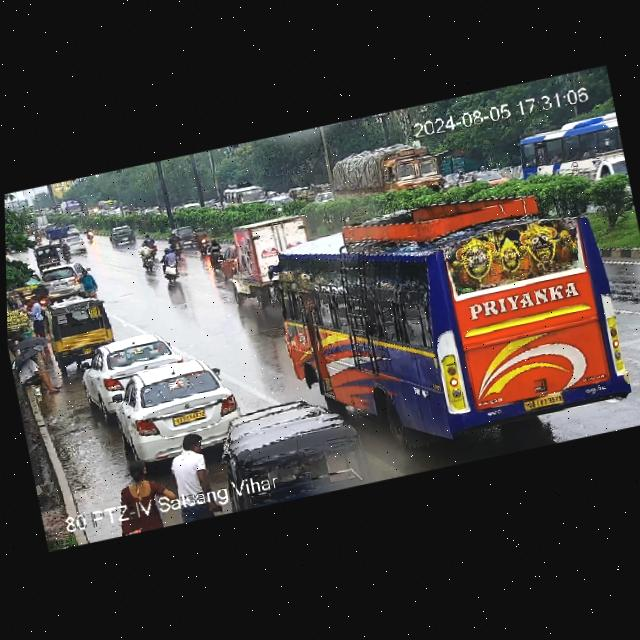bus: (267, 191, 634, 413), (514, 107, 628, 215), (221, 174, 268, 210), (58, 196, 85, 219), (96, 196, 122, 215)
car: (208, 393, 366, 514), (104, 351, 243, 467), (78, 330, 180, 404), (45, 295, 119, 365), (36, 258, 93, 301), (34, 241, 69, 269), (109, 227, 141, 248), (60, 232, 88, 254), (108, 222, 138, 240), (289, 184, 313, 205)
motorcycle: (156, 246, 186, 284), (204, 237, 229, 271), (165, 229, 187, 260), (192, 227, 216, 255), (137, 244, 154, 273), (82, 225, 96, 242)
person: (163, 429, 218, 508), (113, 459, 176, 519), (13, 349, 61, 400), (21, 291, 50, 335), (79, 269, 99, 298)
truck: (327, 135, 444, 208), (225, 207, 318, 290)
